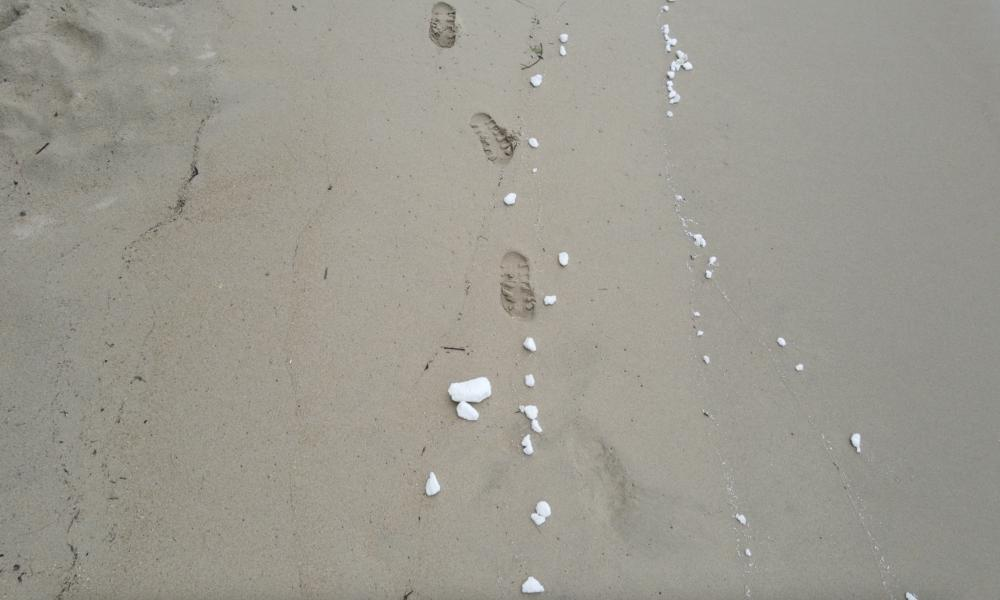styrofoam: (664, 26, 690, 114), (524, 336, 538, 460), (445, 377, 492, 403), (535, 500, 551, 530), (426, 469, 440, 501), (523, 574, 542, 596), (848, 433, 862, 455), (504, 190, 517, 208), (546, 292, 558, 310), (559, 249, 569, 267), (531, 72, 541, 85)
